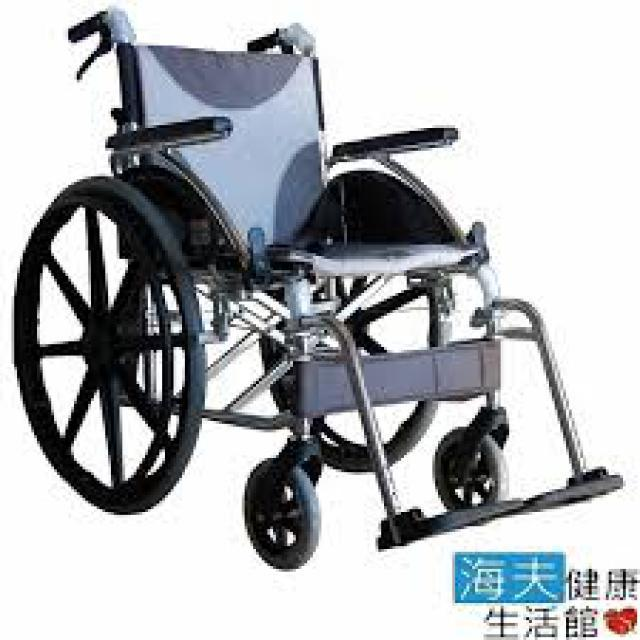wheelchair: (6, 2, 623, 578)
